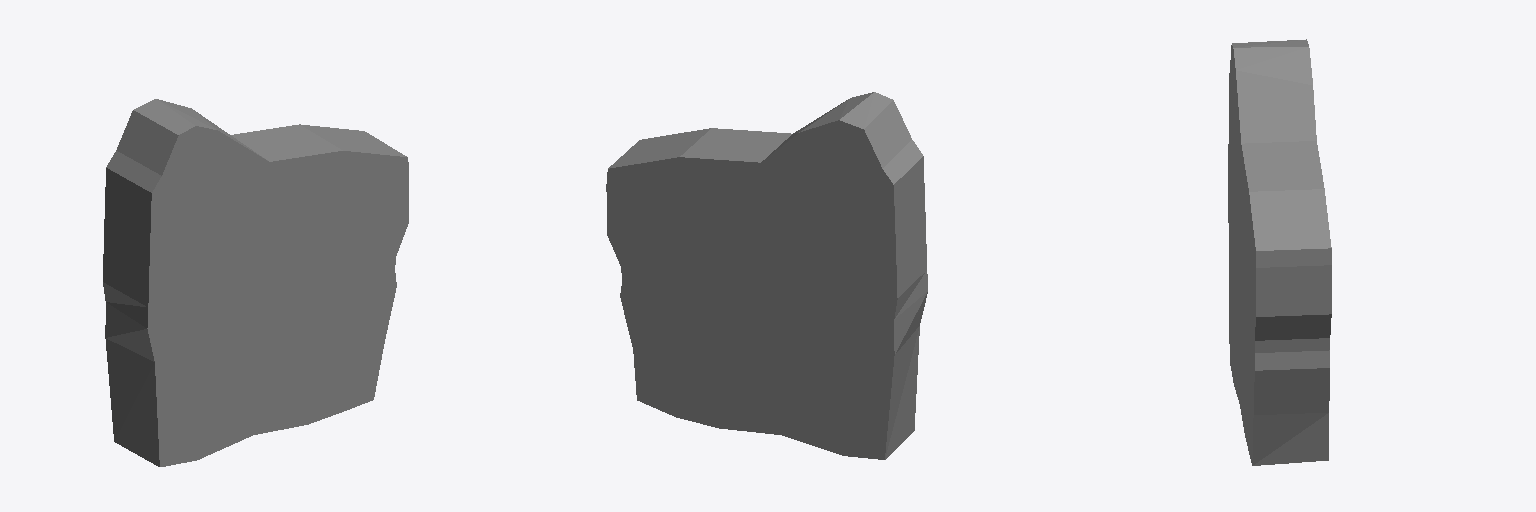
File: PiedraDestruida.obj
3 renders of one model, left to right at view 1: azimuth 30°, elevation 25°; view 2: azimuth 150°, elevation 25°; view 3: azimuth 270°, elevation 25°, orthographic.
Visible parts, largest first — view 1: Box001; view 2: Box001; view 3: Box001.
Boxes of the visible parts, <box> form: Box001: <box>103,99,408,466</box>; Box001: <box>606,92,927,459</box>; Box001: <box>1228,39,1331,465</box>.
Size of the model in its own units: 39.64 by 44.87 by 12.56.